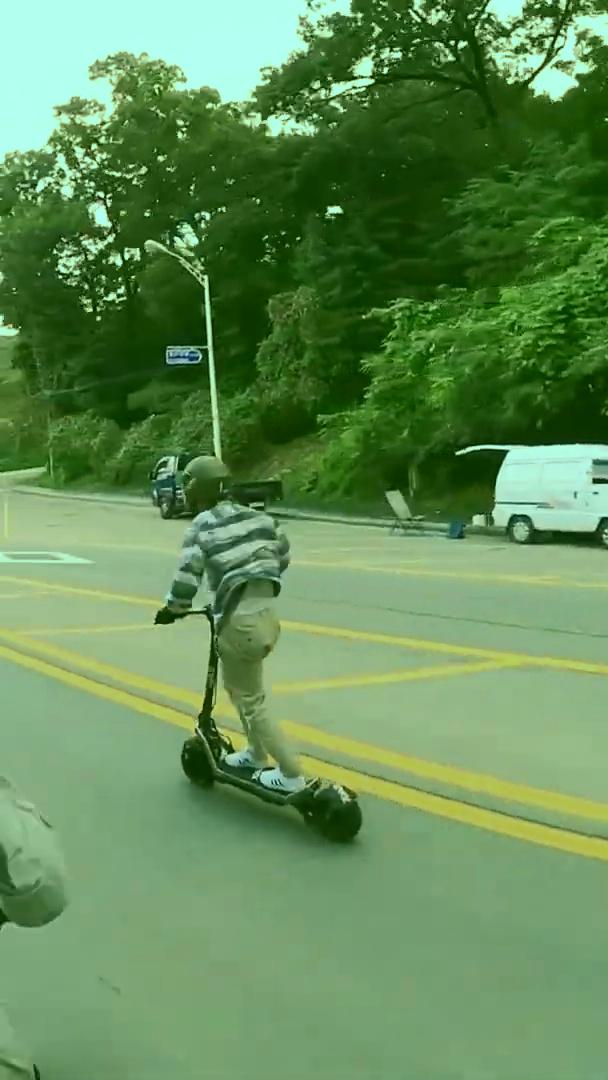helmet: (149, 451, 365, 849)
